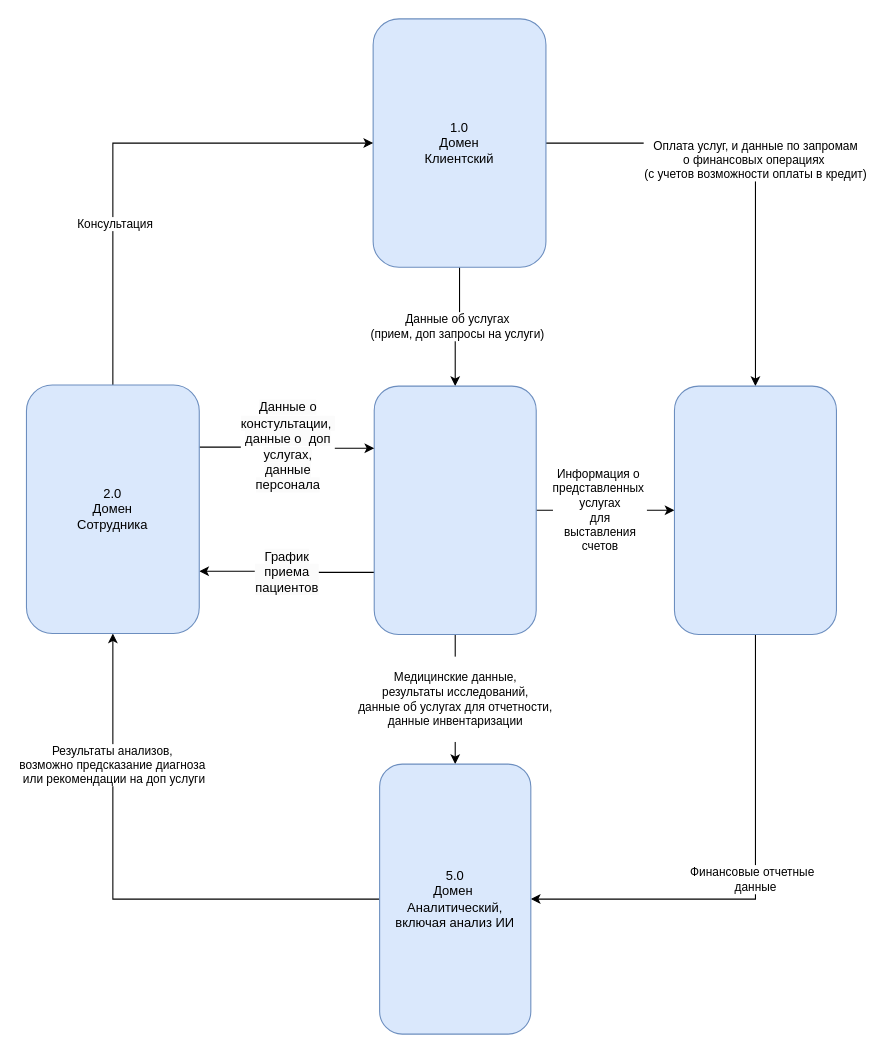
Image size: 885x1053. Some labels were removed from this diagram. The shapes that lost their labels are listed below. From the top down, each one's centre as x and y in pixels, then its label:
At pixel 454 509: "3.0 Домен Медицинский".
At pixel 754 509: "4.0 Домен Финансовый".
